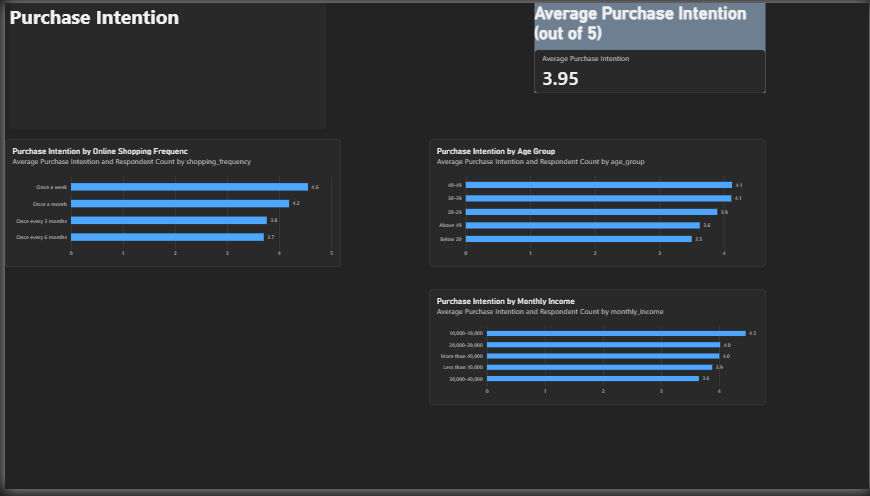

What the dashboard file says about the page in this screenshot:
{"tool":"powerbi","page":{"name":"Page 3","canvas":[1920,1080],"ordinal":2},"visuals":[{"type":"textbox","box":[10,0,703.3,280],"z":0},{"type":"cardVisual","title":"Average Purchase Intention (out of 5)","fields":{"Data":["public survey_questions.Average Purchase Intention"]},"box":[1177.5,0,513.3,200],"z":1},{"type":"clusteredBarChart","title":"Purchase Intention by Online Shopping Frequenc","fields":{"Category":["public survey_respondents.shopping_frequency"],"Y":["public survey_questions.Average Purchase Intention"]},"box":[0,302.5,746.7,283.3],"z":2},{"type":"clusteredBarChart","title":"Purchase Intention by Age Group","fields":{"Category":["public survey_respondents.age_group"],"Y":["public survey_questions.Average Purchase Intention"]},"box":[942.5,302.5,747.5,282.5],"z":3},{"type":"clusteredBarChart","title":"Purchase Intention by Monthly Income","fields":{"Category":["public survey_respondents.monthly_income"],"Y":["public survey_questions.Average Purchase Intention"]},"box":[942.5,637.5,748,256],"z":4}]}

Visuals, with their boxes in screenshot pixels (x1, y1, x2, y2), scaled from the page's 1920x1080 canvas onto the 870x496 screenshot:
textbox: region(5, 0, 323, 129)
"Average Purchase Intention (out of 5)" cardVisual: region(534, 0, 766, 92)
"Purchase Intention by Online Shopping Frequenc" clusteredBarChart: region(0, 139, 338, 269)
"Purchase Intention by Age Group" clusteredBarChart: region(427, 139, 766, 269)
"Purchase Intention by Monthly Income" clusteredBarChart: region(427, 293, 766, 410)
